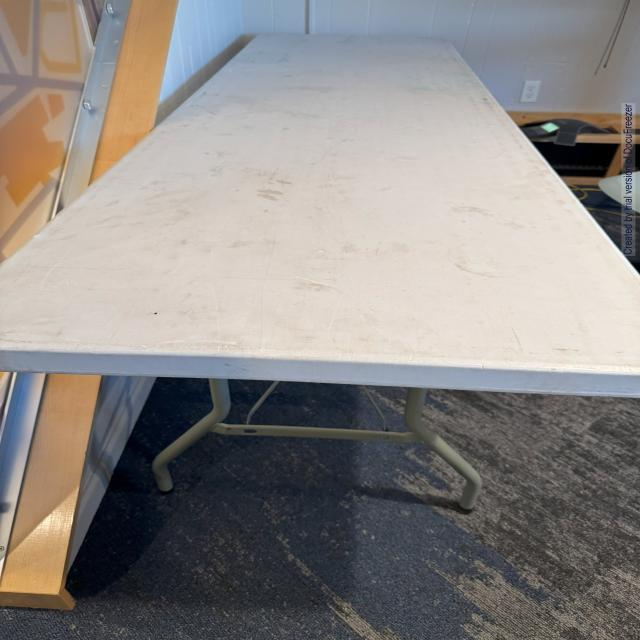Table: (0, 26, 640, 561)
